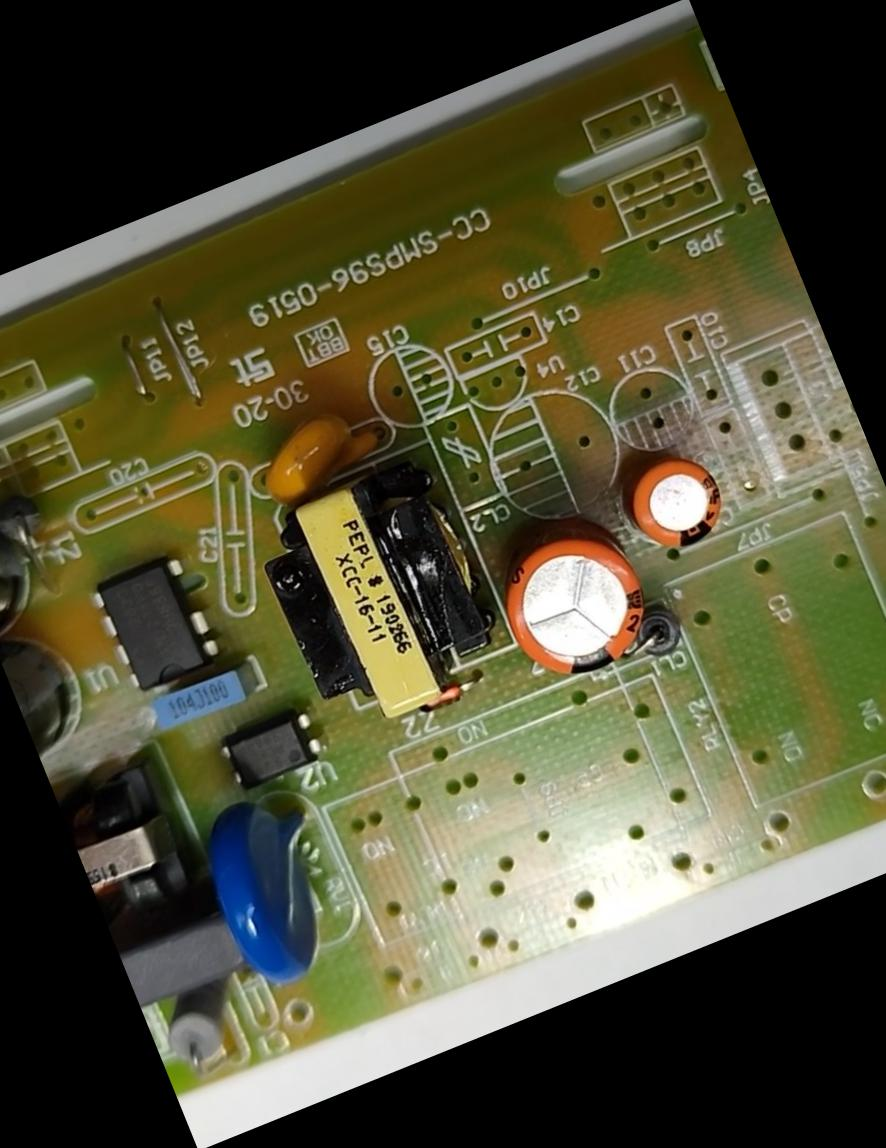Cap1: (473, 505, 668, 704)
Cap2: (612, 435, 740, 570)
Cap3: (0, 615, 114, 795)
Cap4: (0, 465, 62, 639)
MOSFET: (75, 536, 232, 706)
Mov: (180, 777, 368, 996)
Resistor: (142, 976, 260, 1086)
Transformer: (236, 438, 522, 748), (52, 749, 211, 934)
